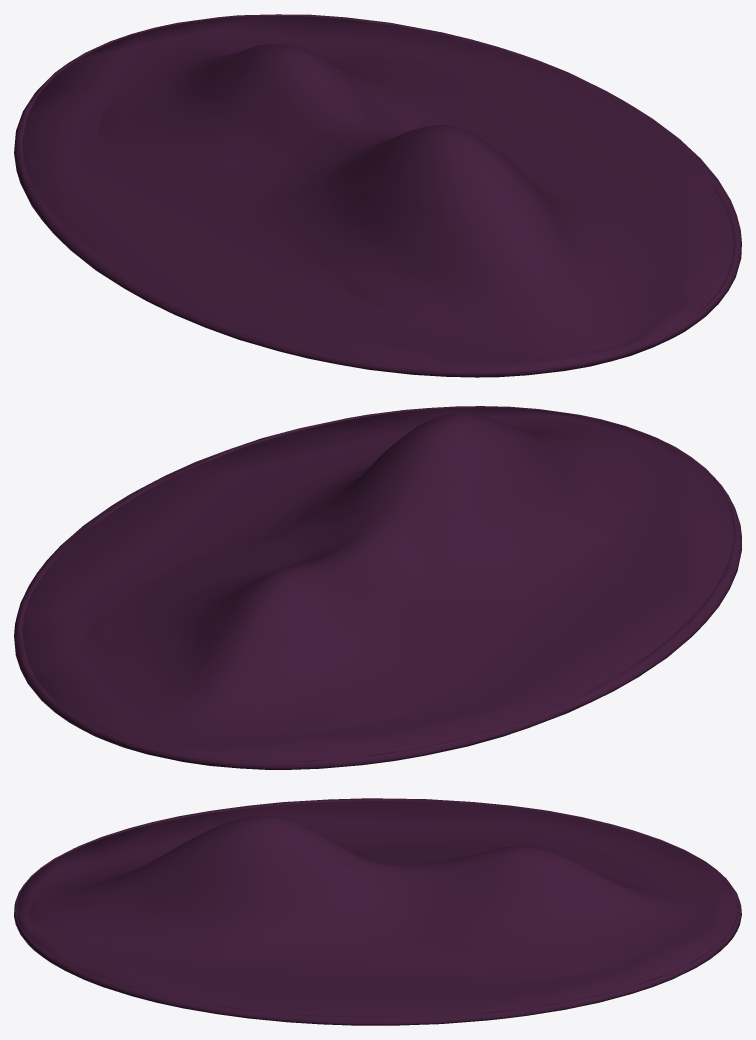
The model's file is vibepad_LP.fbx.
3 views of the same model, one above another, from view 1: azimuth 30°, elevation 25°; view 2: azimuth 150°, elevation 25°; view 3: azimuth 270°, elevation 25° (orthographic). The views are drawn at different scales.
Parts seen in each view (by area): view 1: vibepad; view 2: vibepad; view 3: vibepad.
Part boxes in pixels (bbox=[...]): vibepad: bbox=[14, 14, 741, 377]; vibepad: bbox=[14, 406, 741, 769]; vibepad: bbox=[14, 798, 741, 1025].
Bounding box in the file's own units: 21.08 × 4.17 × 28.87.
